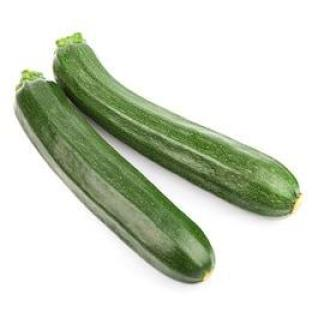Zucchini: (54, 34, 299, 215), (16, 71, 214, 281)
